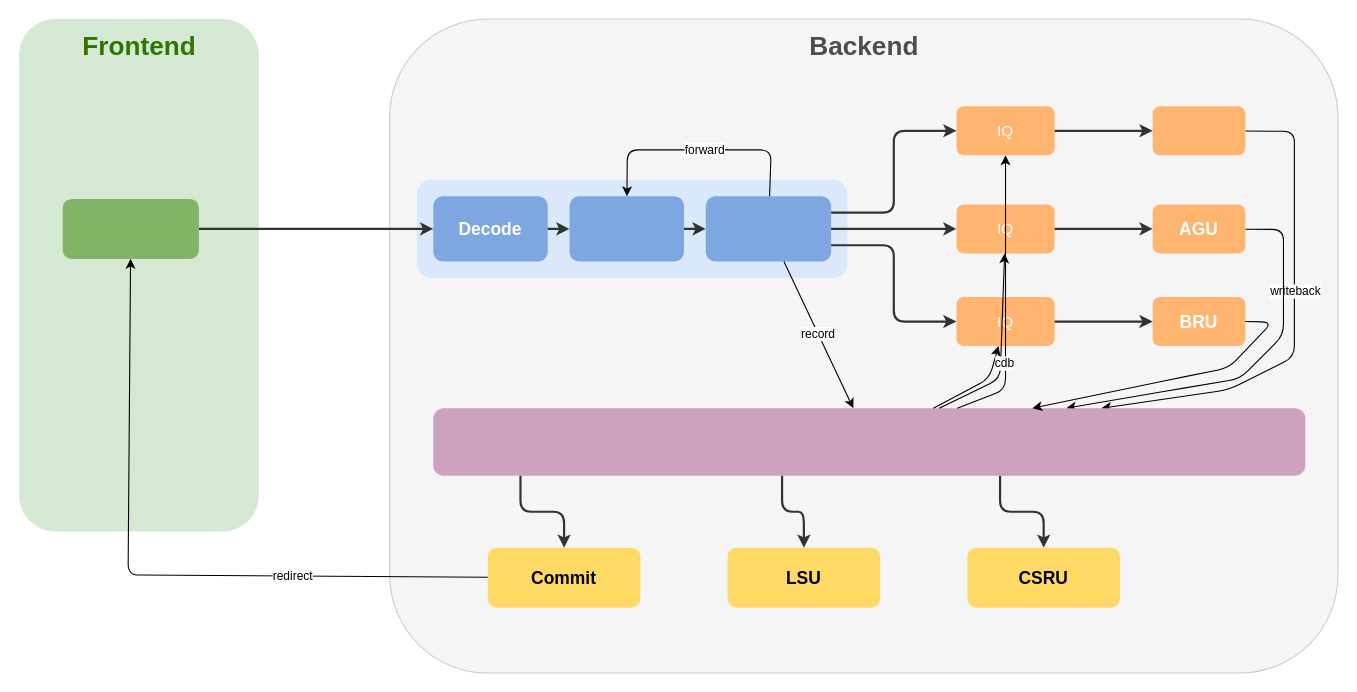
This 1357x692 diagram has some shape labels left out. The centre of each missing label's shape, as x and y in pixels:
"ALU" goes at point (1198, 130).
"Dispatch" goes at point (768, 228).
"IFU" goes at point (130, 228).
"Rename" goes at point (626, 228).
"ROB" goes at point (869, 441).
